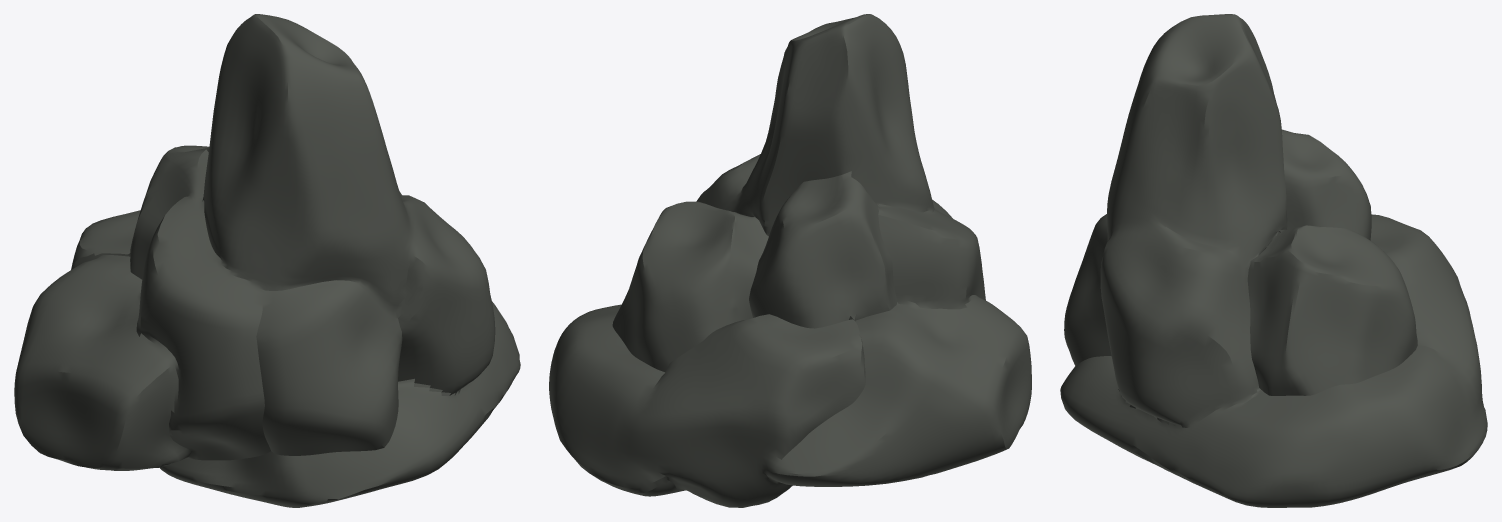
The model's file is Rocks-38eDa0gjwZ.glb.
The picture shows the model from 3 angles, left to right: view 1: azimuth 30°, elevation 25°; view 2: azimuth 150°, elevation 25°; view 3: azimuth 270°, elevation 25°; orthographic projection. The views are drawn at different scales.
Parts seen in each view (by area): view 1: Environment_Cliff3; view 2: Environment_Cliff3; view 3: Environment_Cliff3.
Boxes of the visible parts, x1=… form: Environment_Cliff3: x1=14, y1=14, x2=520, y2=507; Environment_Cliff3: x1=549, y1=14, x2=1031, y2=507; Environment_Cliff3: x1=1060, y1=14, x2=1487, y2=507.
Size of the model in its own units: 6.86 by 6.17 by 5.95.
1 material, 1 textured.
